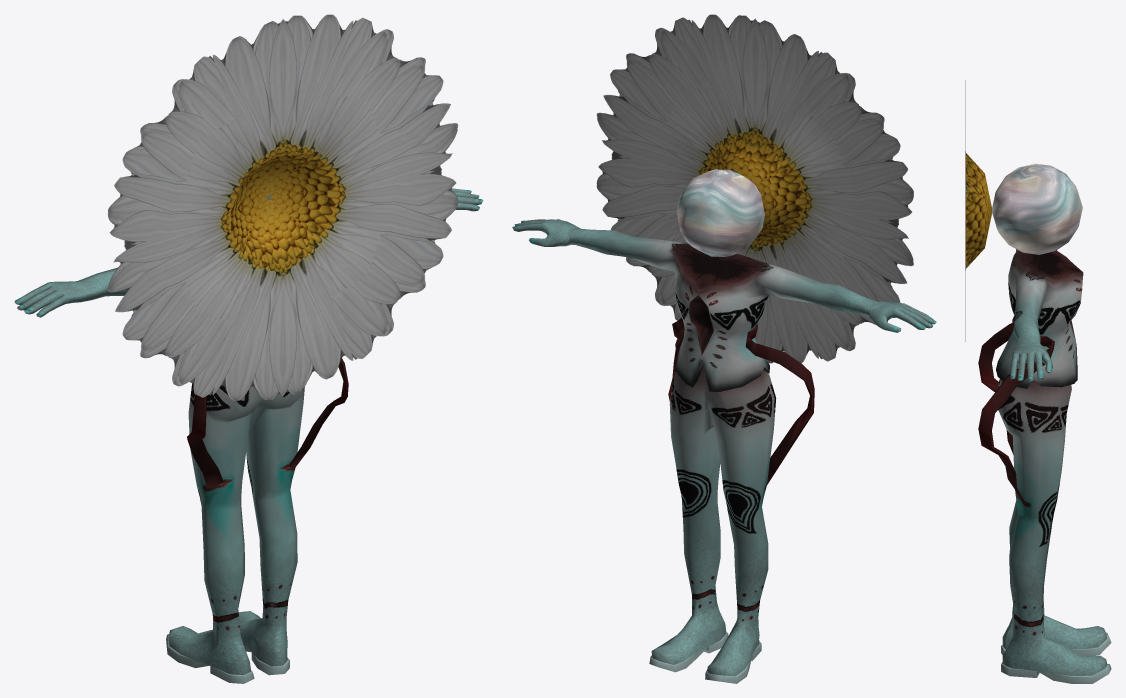
File: Megeryte.glb
The picture shows the model from 3 angles, left to right: view 1: azimuth 30°, elevation 25°; view 2: azimuth 150°, elevation 25°; view 3: azimuth 270°, elevation 25°; orthographic projection. The views are drawn at different scales.
Parts seen in each view (by area): view 1: Cube, Body; view 2: Cube, Body, Head; view 3: Body, Head, Cube.
Part boxes in pixels (x1=…): Cube: x1=108, y1=14, x2=458, y2=400; Body: x1=14, y1=188, x2=483, y2=683; Cube: x1=596, y1=14, x2=913, y2=363; Body: x1=512, y1=219, x2=936, y2=683; Head: x1=676, y1=169, x2=764, y2=256; Body: x1=978, y1=249, x2=1111, y2=683; Head: x1=992, y1=163, x2=1082, y2=254; Cube: x1=965, y1=80, x2=991, y2=341.
Size of the model in its own units: 1.7 by 2.38 by 0.5006.
3 materials, 3 textured.
